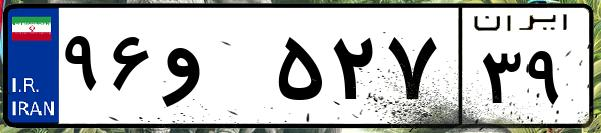2: (330, 28, 385, 110)
3: (475, 38, 525, 113)
5: (270, 28, 330, 110)
6: (110, 28, 158, 98)
7: (385, 28, 445, 110)
9: (57, 26, 110, 100), (525, 38, 570, 115)
و: (158, 20, 270, 120)
